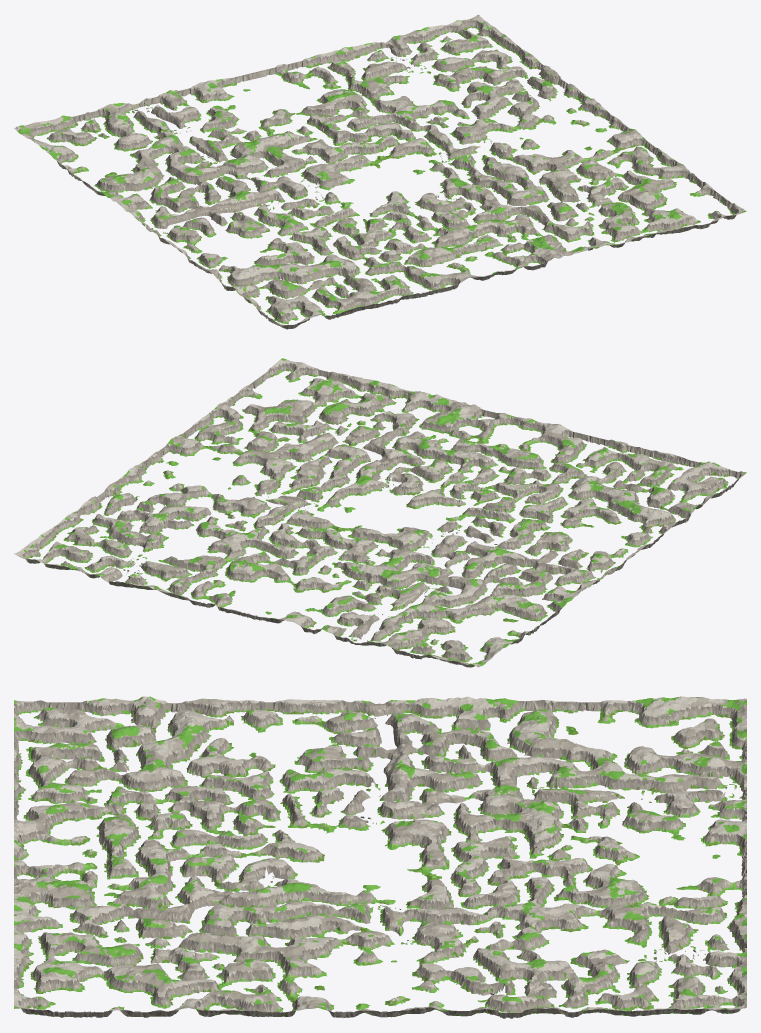
Rendered from Dungeon-2-Relief.fbx.
The picture shows the model from 3 angles, top to bottom: view 1: azimuth 30°, elevation 25°; view 2: azimuth 150°, elevation 25°; view 3: azimuth 270°, elevation 25°; orthographic projection. The views are drawn at different scales.
Visible parts, largest first — view 1: Dungeon-2-Relief-c41, Dungeon-2-Relief-c77, Dungeon-2-Relief-c01, Dungeon-2-Relief-c25, Dungeon-2-Relief-c14, Dungeon-2-Relief-c10, Dungeon-2-Relief-c57, Dungeon-2-Relief-c61, Dungeon-2-Relief-c34, Dungeon-2-Relief-c42, Dungeon-2-Relief-c76, Dungeon-2-Relief-c17 (+50 smaller); view 2: Dungeon-2-Relief-c60, Dungeon-2-Relief-c10, Dungeon-2-Relief-c40, Dungeon-2-Relief-c16, Dungeon-2-Relief-c42, Dungeon-2-Relief-c05, Dungeon-2-Relief-c25, Dungeon-2-Relief-c45, Dungeon-2-Relief-c31, Dungeon-2-Relief-c14, Dungeon-2-Relief-c00, Dungeon-2-Relief-c50 (+51 smaller); view 3: Dungeon-2-Relief-c00, Dungeon-2-Relief-c01, Dungeon-2-Relief-c07, Dungeon-2-Relief-c04, Dungeon-2-Relief-c15, Dungeon-2-Relief-c52, Dungeon-2-Relief-c35, Dungeon-2-Relief-c62, Dungeon-2-Relief-c51, Dungeon-2-Relief-c05, Dungeon-2-Relief-c60, Dungeon-2-Relief-c03 (+52 smaller).
Part boxes in pixels (bbox=[...]): Dungeon-2-Relief-c41: bbox=[448, 205, 538, 250]; Dungeon-2-Relief-c77: bbox=[421, 14, 511, 55]; Dungeon-2-Relief-c01: bbox=[215, 265, 305, 303]; Dungeon-2-Relief-c25: bbox=[201, 139, 288, 179]; Dungeon-2-Relief-c14: bbox=[177, 176, 261, 218]; Dungeon-2-Relief-c10: bbox=[311, 276, 397, 316]; Dungeon-2-Relief-c57: bbox=[304, 44, 393, 88]; Dungeon-2-Relief-c61: bbox=[564, 178, 655, 219]; Dungeon-2-Relief-c34: bbox=[289, 147, 364, 190]; Dungeon-2-Relief-c42: bbox=[415, 183, 504, 222]; Dungeon-2-Relief-c76: bbox=[458, 41, 545, 84]; Dungeon-2-Relief-c17: bbox=[72, 103, 162, 143]; Dungeon-2-Relief-c60: bbox=[314, 373, 397, 416]; Dungeon-2-Relief-c10: bbox=[602, 446, 689, 487]; Dungeon-2-Relief-c40: bbox=[427, 401, 514, 443]; Dungeon-2-Relief-c16: bbox=[396, 592, 486, 634]; Dungeon-2-Relief-c42: bbox=[356, 450, 447, 495]; Dungeon-2-Relief-c05: bbox=[488, 583, 578, 624]; Dungeon-2-Relief-c25: bbox=[371, 552, 462, 596]; Dungeon-2-Relief-c45: bbox=[262, 525, 346, 568]; Dungeon-2-Relief-c31: bbox=[448, 443, 538, 483]; Dungeon-2-Relief-c14: bbox=[464, 547, 549, 585]; Dungeon-2-Relief-c00: bbox=[667, 460, 746, 498]; Dungeon-2-Relief-c50: bbox=[367, 387, 455, 429]; Dungeon-2-Relief-c00: bbox=[14, 698, 106, 747]; Dungeon-2-Relief-c01: bbox=[104, 696, 197, 748]; Dungeon-2-Relief-c07: bbox=[654, 696, 746, 747]; Dungeon-2-Relief-c04: bbox=[380, 696, 473, 747]; Dungeon-2-Relief-c15: bbox=[470, 736, 564, 787]; Dungeon-2-Relief-c52: bbox=[197, 891, 289, 939]; Dungeon-2-Relief-c35: bbox=[470, 813, 564, 863]; Dungeon-2-Relief-c62: bbox=[196, 932, 290, 980]; Dungeon-2-Relief-c51: bbox=[104, 892, 197, 941]; Dungeon-2-Relief-c05: bbox=[470, 698, 563, 749]; Dungeon-2-Relief-c60: bbox=[14, 932, 107, 980]; Dungeon-2-Relief-c03: bbox=[287, 699, 380, 747].
Bounding box in the file's own units: 132 × 2.77 × 132.
